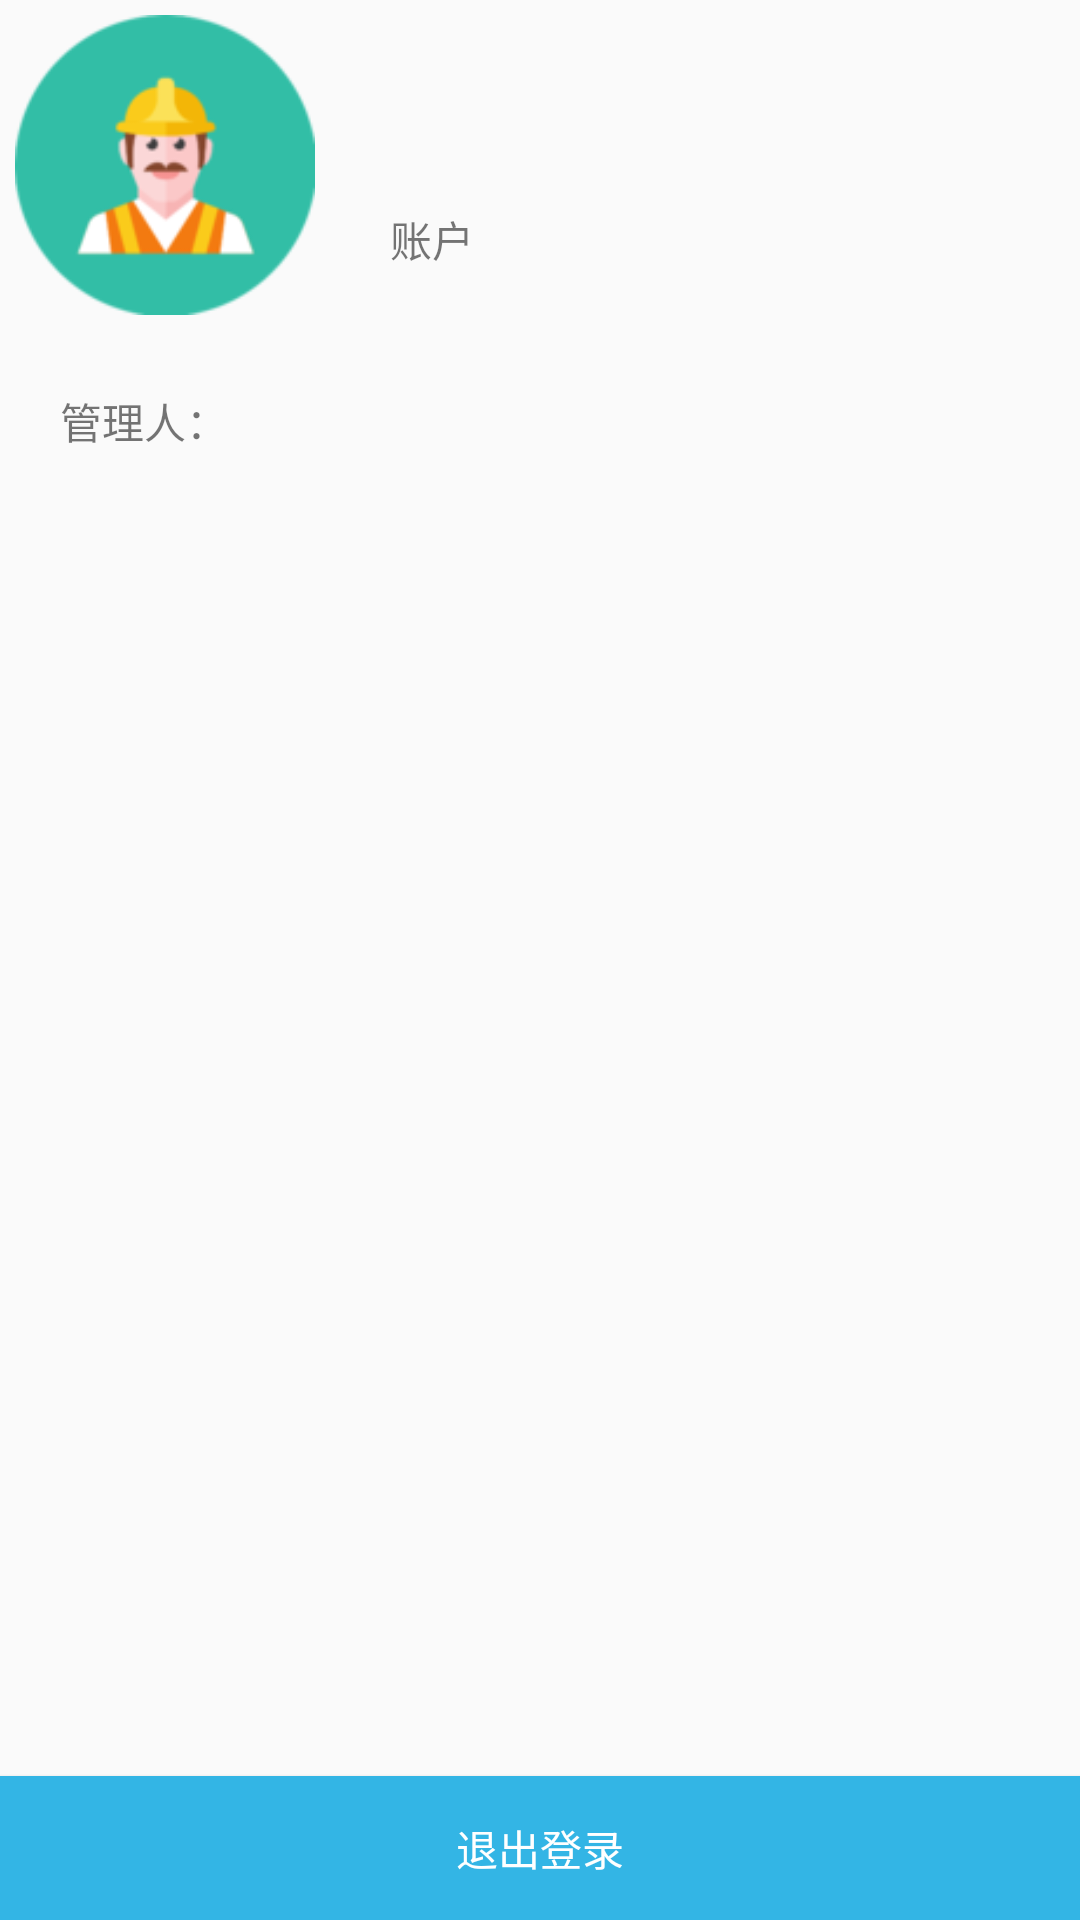

Icon bounding boxes for this 1080 x 1920 phone screenshot, format bbox(x1, y1, x2, y2):
staff: bbox(15, 15, 315, 315)
